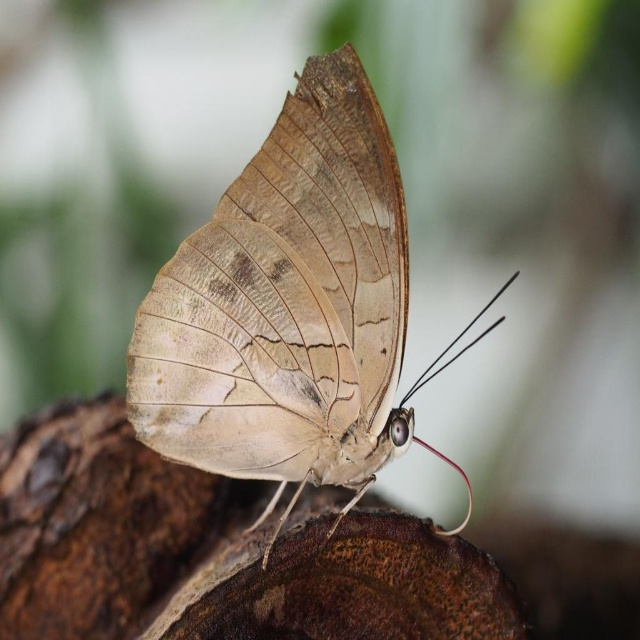Butterfly: (126, 41, 520, 570)
